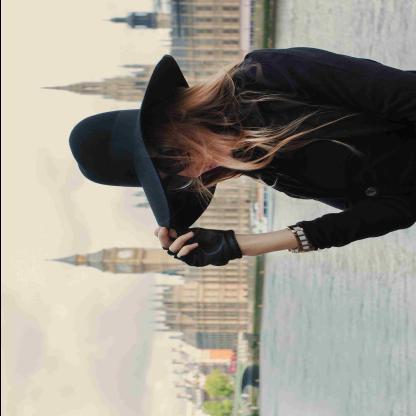hat: (65, 53, 218, 242)
sunglasses: (149, 118, 195, 192)
